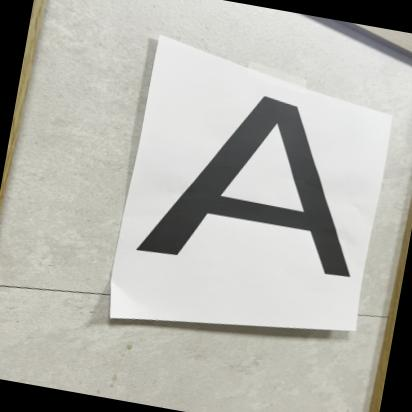seat: (110, 62, 378, 306)
